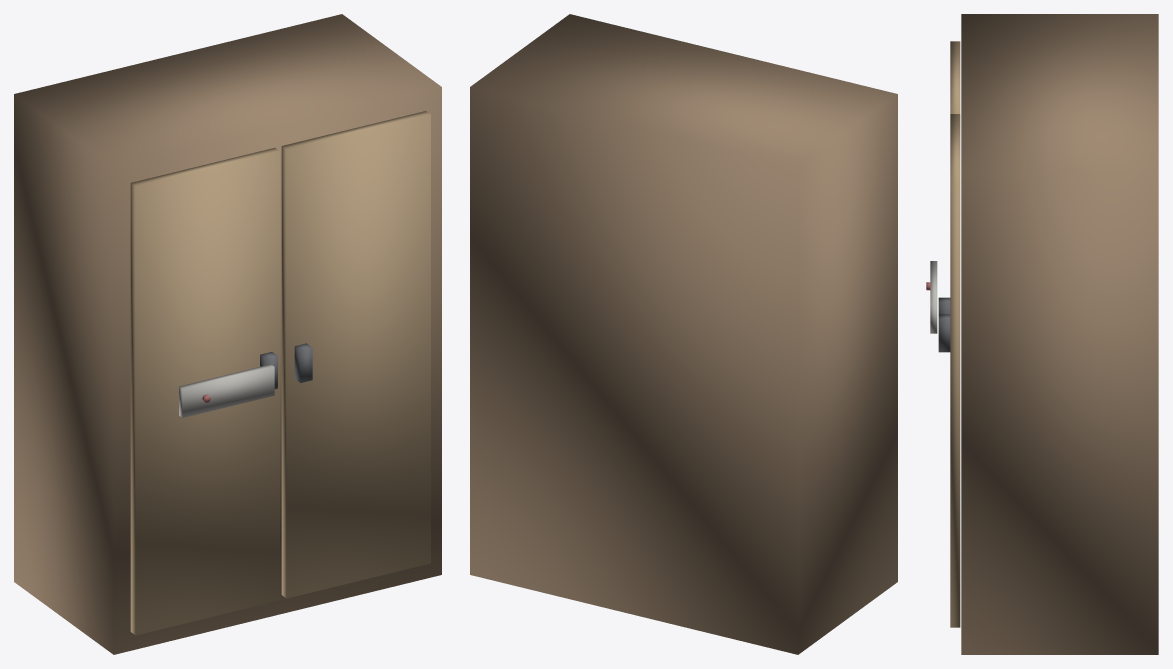
The model's file is case_file_cabinet.glb.
3 renders of one model, left to right at view 1: azimuth 30°, elevation 25°; view 2: azimuth 150°, elevation 25°; view 3: azimuth 270°, elevation 25°, orthographic.
Parts seen in each view (by area): view 1: world; view 2: world; view 3: world.
Part boxes in pixels (bbox=[...]): world: bbox=[14, 14, 441, 654]; world: bbox=[470, 14, 897, 654]; world: bbox=[926, 14, 1158, 654].
Bounding box in the file's own units: 0.95 × 1.35 × 0.5885.
